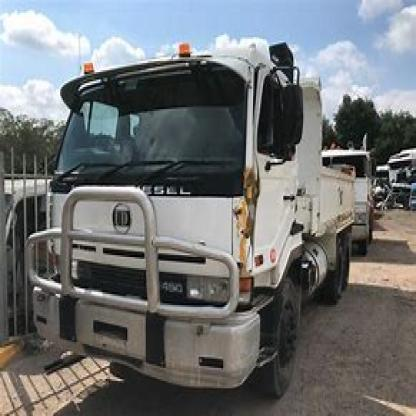dump_truck: (26, 43, 356, 401)
